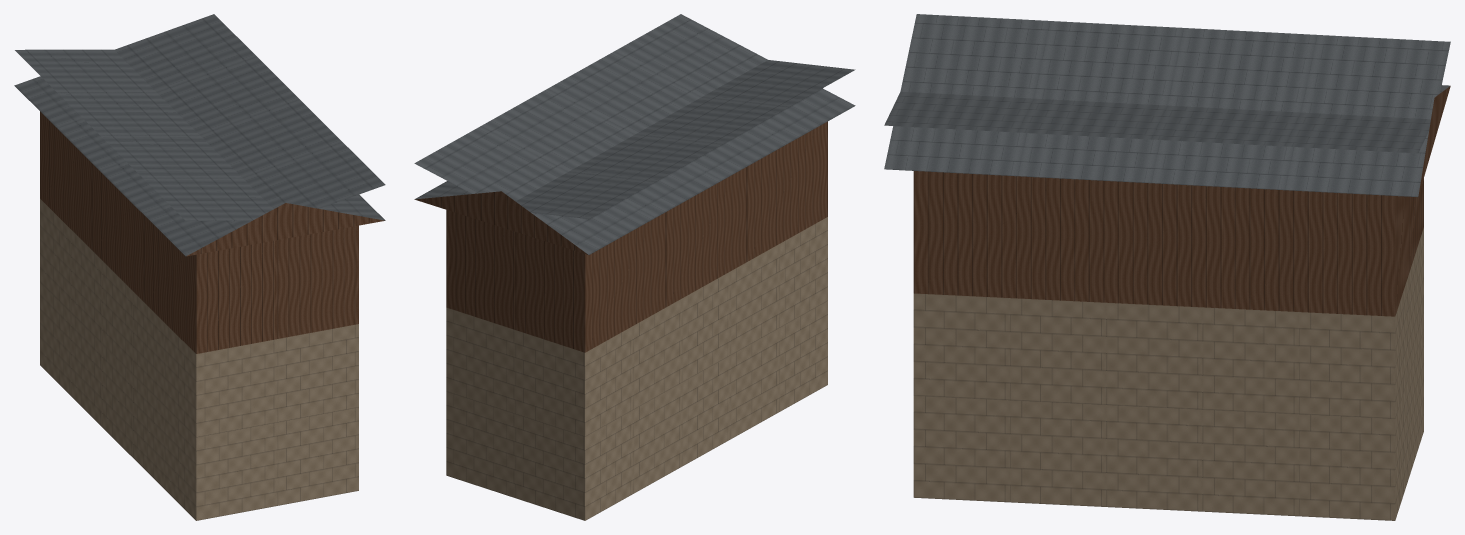
The model's file is bld_c10_26_401.gltf.
3 views of the same model, side by side, from view 1: azimuth 30°, elevation 25°; view 2: azimuth 150°, elevation 25°; view 3: azimuth 270°, elevation 25° (orthographic). The views are drawn at different scales.
Visible parts, largest first — view 1: bld_c10_26_401; view 2: bld_c10_26_401; view 3: bld_c10_26_401.
Part boxes in pixels (x1,y1,x2,y2): bld_c10_26_401: (14,14,385,520); bld_c10_26_401: (414,14,855,520); bld_c10_26_401: (884,14,1450,520).
Size of the model in its own units: 6.83 by 8.7 by 11.73.
4 materials, 4 textured.
